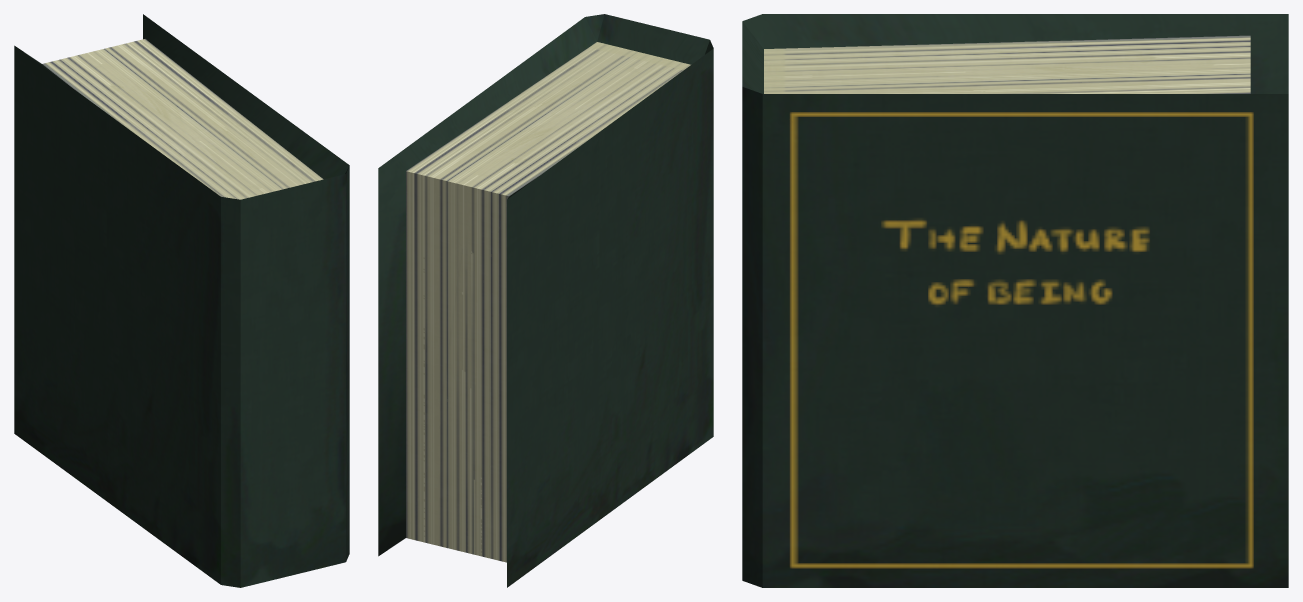
File: e_asset_book_nature.fbx
3 views of the same model, side by side, from view 1: azimuth 30°, elevation 25°; view 2: azimuth 150°, elevation 25°; view 3: azimuth 270°, elevation 25° (orthographic). The views are drawn at different scales.
Parts seen in each view (by area): view 1: pCube80; view 2: pCube80; view 3: pCube80.
Boxes of the visible parts, <box> form: pCube80: <box>14,14,349,587</box>; pCube80: <box>378,14,713,587</box>; pCube80: <box>742,14,1288,587</box>.
Size of the model in its own units: 0.0719 by 0.2072 by 0.2077.
